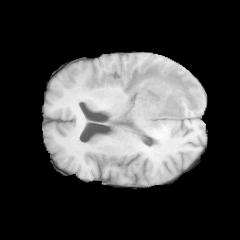glioma: (121, 61, 199, 156)
